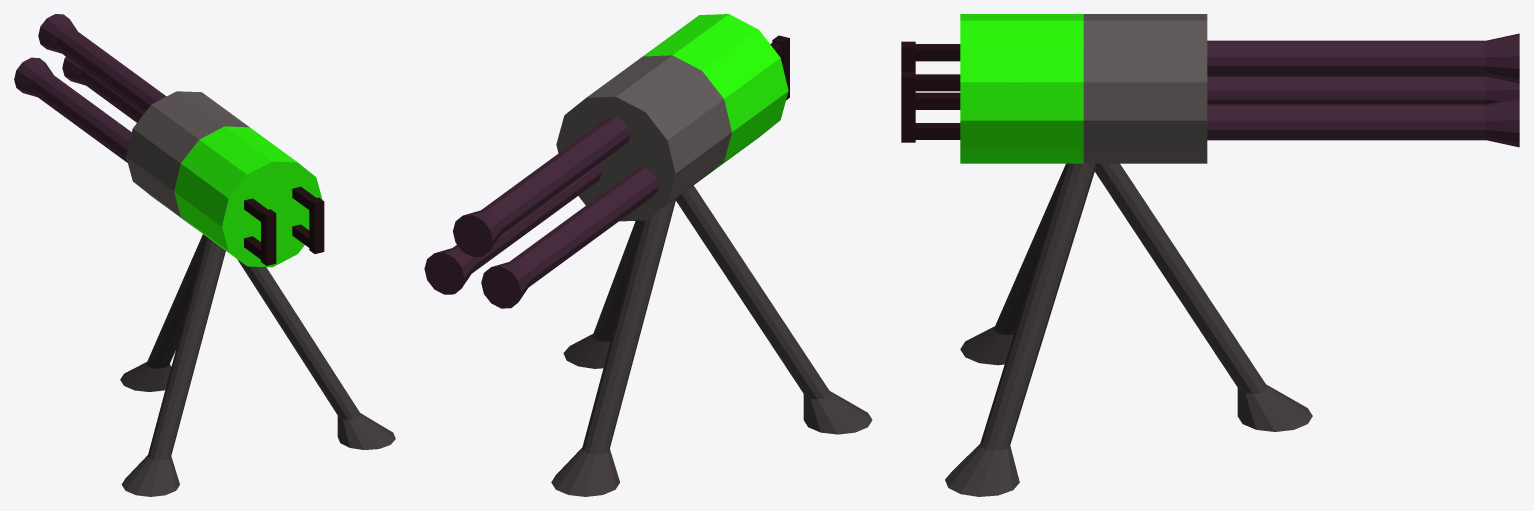
File: Minigun2.fbx
3 views of the same model, side by side, from view 1: azimuth 30°, elevation 25°; view 2: azimuth 150°, elevation 25°; view 3: azimuth 270°, elevation 25° (orthographic). The views are drawn at different scales.
Visible parts, largest first — view 1: Base, Leg1, Leg1.001, Barrell, Barrell.002, Leg1.002, Handle.001, Handle, Barrell.001; view 2: Base, Leg1.002, Leg1, Barrell.002, Barrell, Barrell.001, Leg1.001, Handle.001; view 3: Base, Barrell, Barrell.001, Leg1.001, Leg1.002, Barrell.002, Leg1, Handle, Handle.001.
Boxes of the visible parts, <box> form: Base: <box>126,91,322,267</box>; Leg1: <box>121,236,225,496</box>; Leg1.001: <box>237,259,395,449</box>; Barrell: <box>38,14,166,113</box>; Barrell.002: <box>14,57,131,162</box>; Leg1.002: <box>120,234,205,391</box>; Handle.001: <box>244,198,276,265</box>; Handle: <box>292,186,324,253</box>; Barrell.001: <box>62,57,143,122</box>; Base: <box>556,14,788,221</box>; Leg1.002: <box>551,198,676,496</box>; Leg1: <box>676,185,872,434</box>; Barrell.002: <box>481,168,658,308</box>; Barrell: <box>453,116,629,256</box>; Barrell.001: <box>424,164,601,294</box>; Leg1.001: <box>563,220,642,368</box>; Handle.001: <box>770,35,789,100</box>; Base: <box>960,14,1207,163</box>; Barrell: <box>1207,33,1519,83</box>; Barrell.001: <box>1207,97,1519,147</box>; Leg1.001: <box>945,163,1096,496</box>; Leg1.002: <box>1095,163,1312,431</box>; Barrell.002: <box>1207,76,1519,104</box>; Leg1: <box>960,163,1066,365</box>; Handle: <box>901,71,960,142</box>; Handle.001: <box>901,41,960,109</box>.
Size of the model in its own units: 43.26 by 48.82 by 69.13.
